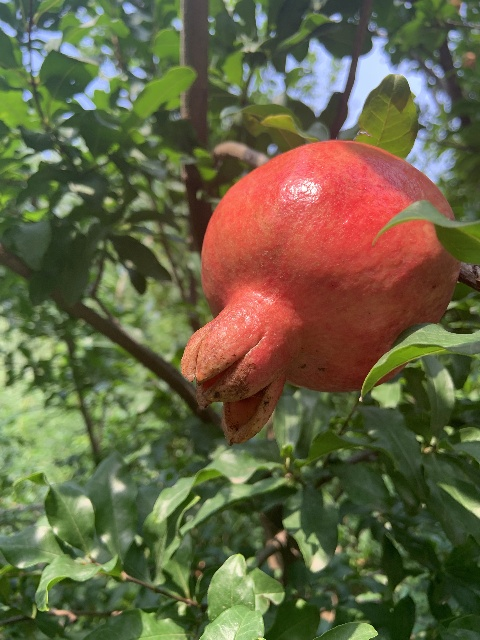ripe: (179, 138, 460, 444)
